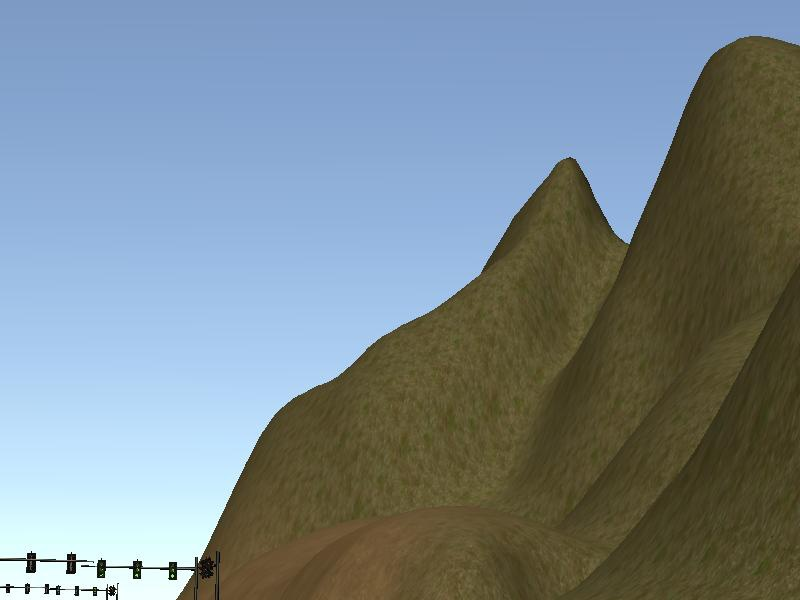Green: (132, 560, 141, 580), (168, 562, 177, 580), (98, 559, 106, 577)
